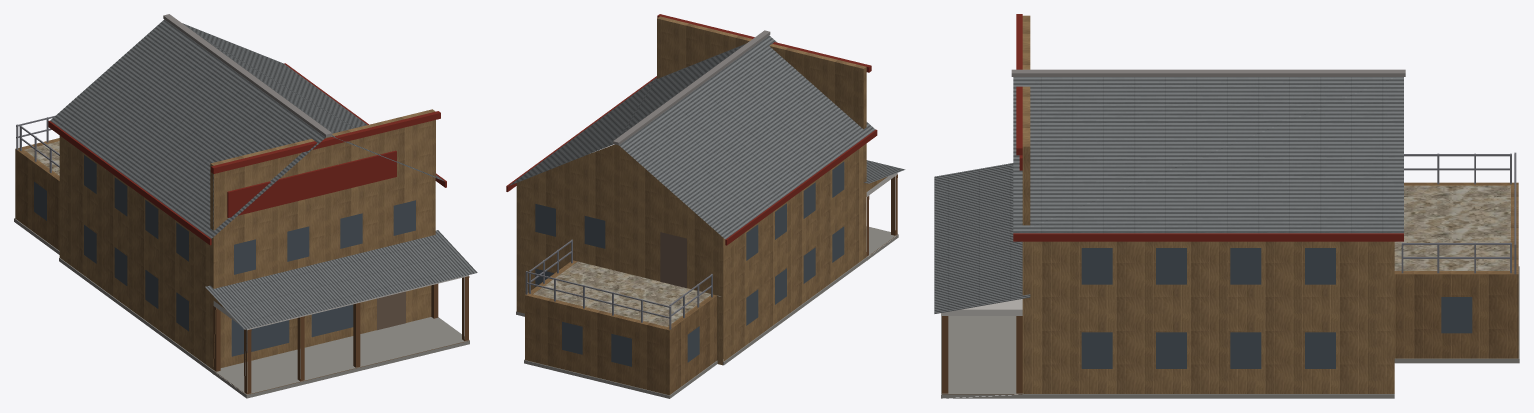
File: cr-feed-store.zfix-v22.lod1.glb
3 views of the same model, side by side, from view 1: azimuth 30°, elevation 25°; view 2: azimuth 150°, elevation 25°; view 3: azimuth 270°, elevation 25° (orthographic). The views are drawn at different scales.
Visible parts, largest first — view 1: cr-feed-store; view 2: cr-feed-store; view 3: cr-feed-store.
Part boxes in pixels (<box>): cr-feed-store: <box>14,14,477,398</box>; cr-feed-store: <box>506,14,905,398</box>; cr-feed-store: <box>934,14,1519,398</box>.
Bounding box in the file's own units: 10.68 × 9.31 × 18.88.
4 materials, 3 textured.
